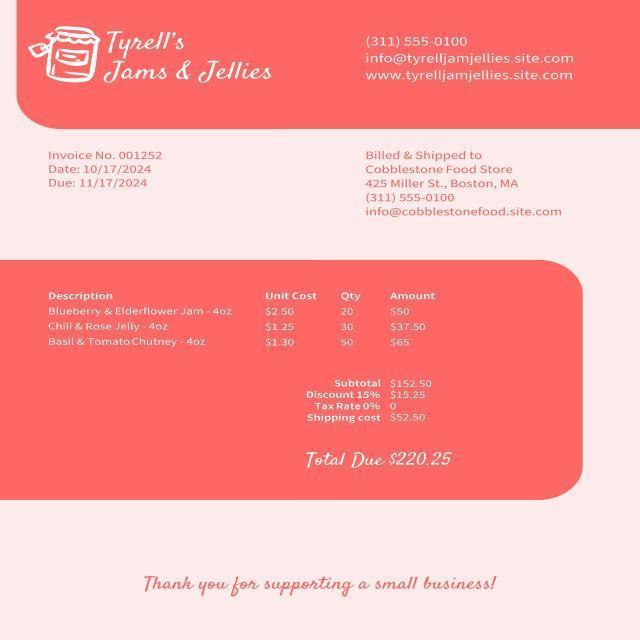paragraph: (359, 144, 567, 223), (298, 374, 458, 476), (359, 28, 585, 86), (139, 569, 501, 601), (100, 26, 276, 86), (44, 145, 171, 193)
table: (40, 283, 444, 357)
